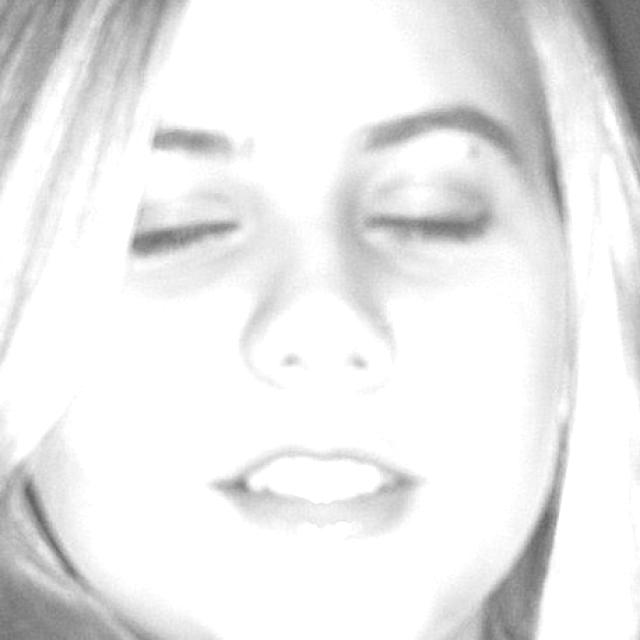real: (28, 13, 520, 588), (78, 150, 522, 278)
